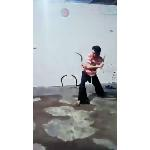Celurit: (68, 49, 86, 73), (99, 50, 116, 74)
